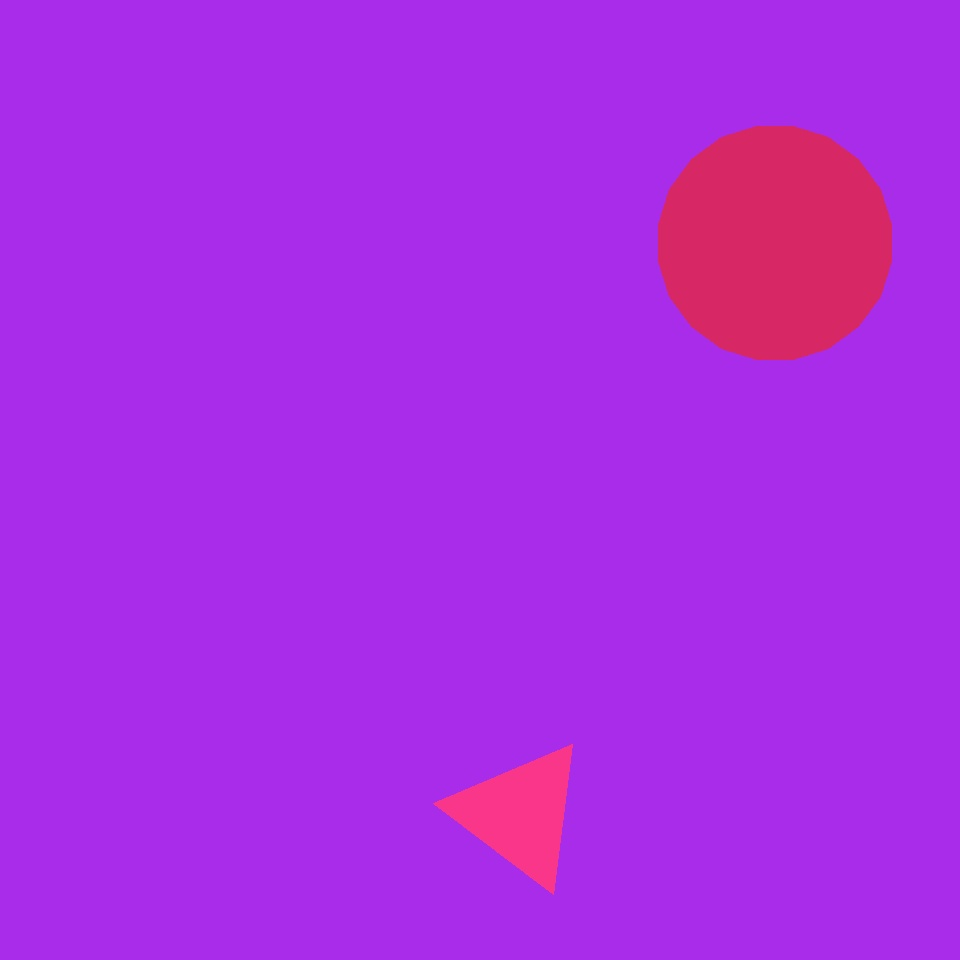circle: (426, 306, 687, 558), (450, 739, 590, 889)
square: (468, 126, 765, 423)
triangle: (368, 181, 708, 521), (644, 554, 926, 836), (658, 126, 892, 360), (498, 696, 719, 917)
